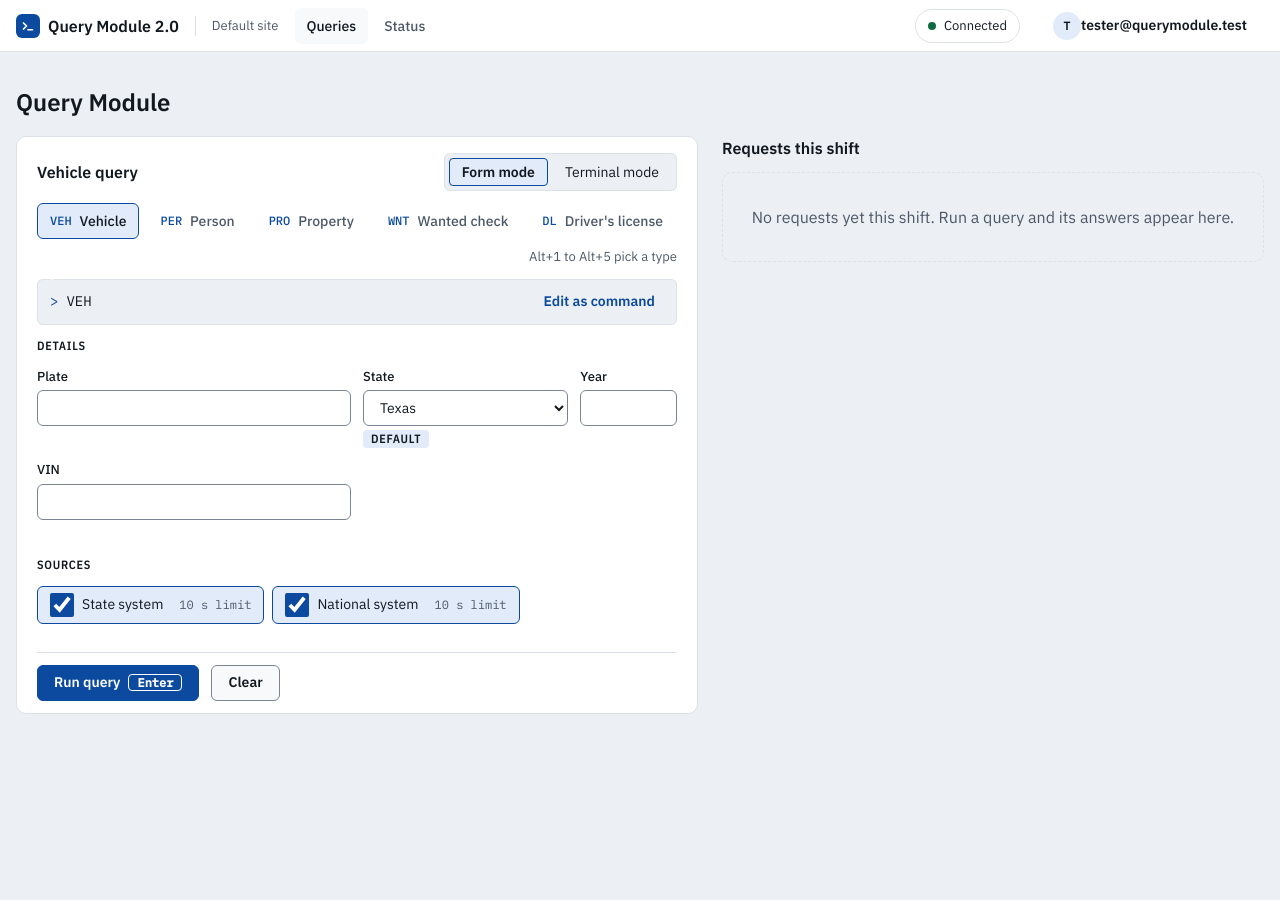
Test: G31 terminal mode names what is typed › a request typed as NAM is listed as NAM, not rebuilt as PER
The width and height of the screenshot is (1280, 900).
Expected: the field labelled "Plate" is shown, [37,390,351,426]
Click the button "Terminal mode".
click(612, 172)  # box [552,158,672,186]
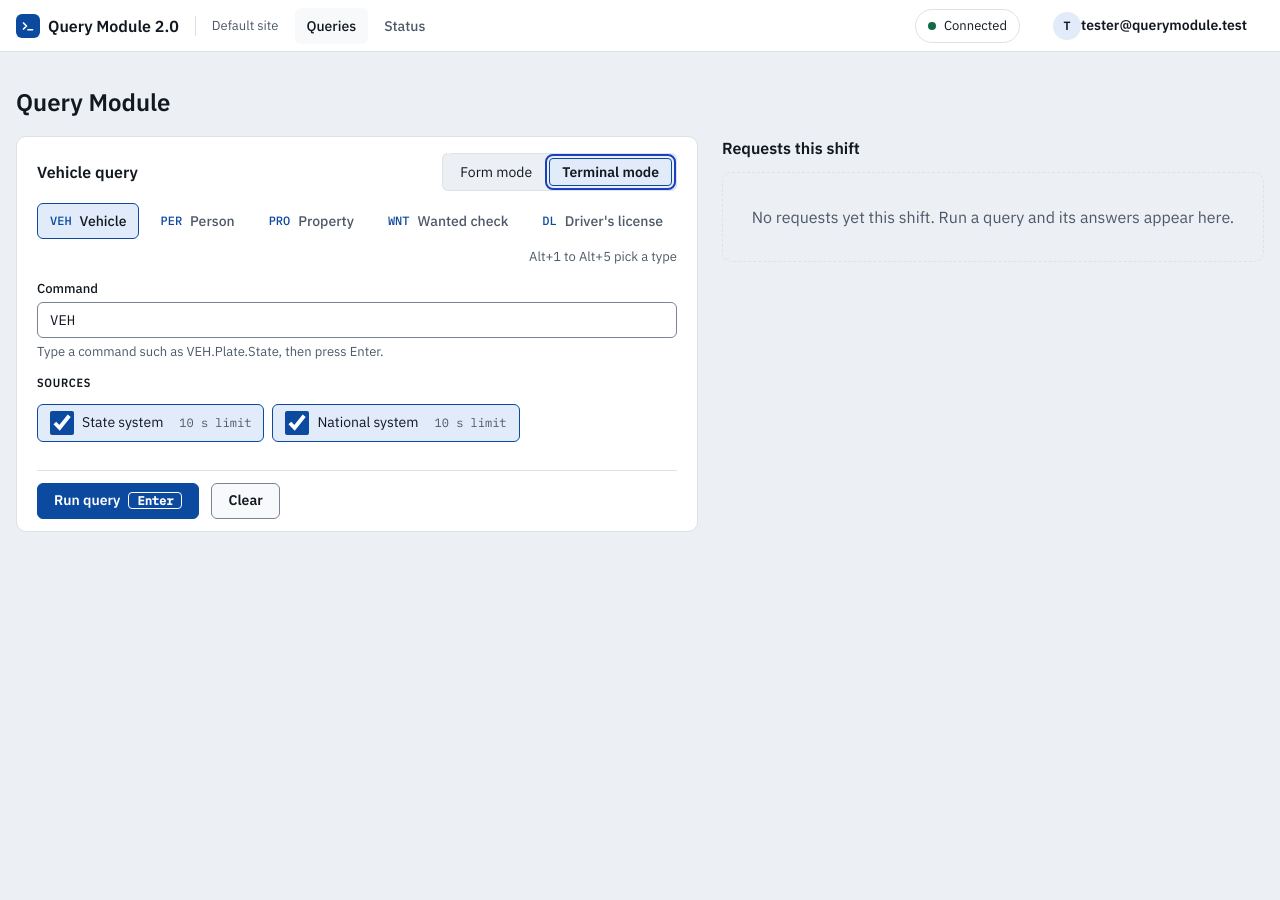
Replace the text in the field labelled "Command" with "NAM.TESTERSON.SAMPLE" at (357, 320), box [37,302,677,338]
Then press Enter
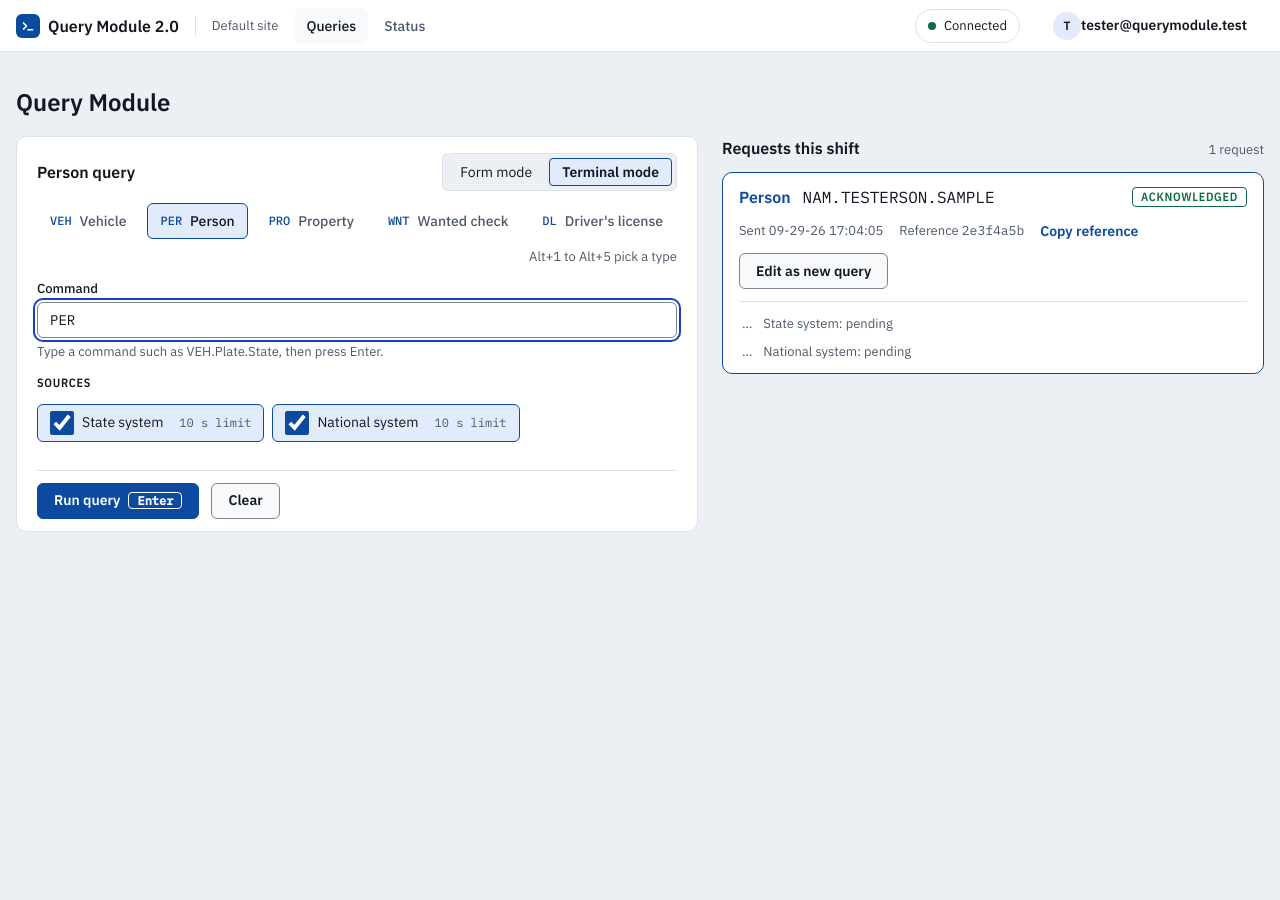
Expected: the number of list items is 1, [722,172,1264,374]
Expected: the text "NAM.TESTERSON.SAMPLE" is shown, [803,187,995,207]
